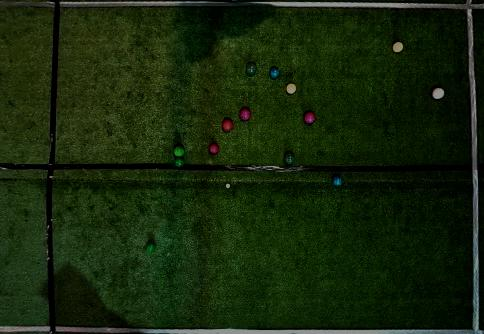blue: (269, 68, 280, 79), (333, 176, 343, 187)
green: (173, 145, 185, 157), (246, 63, 257, 76), (284, 153, 295, 165), (146, 242, 156, 252), (174, 158, 185, 167)
red: (431, 87, 445, 100), (239, 107, 251, 121), (222, 119, 234, 132), (304, 111, 316, 124), (209, 144, 219, 154)
vline: (1, 0, 61, 333), (463, 0, 483, 334)
white: (226, 184, 231, 188)
yellow: (286, 83, 297, 94), (392, 42, 403, 53)
